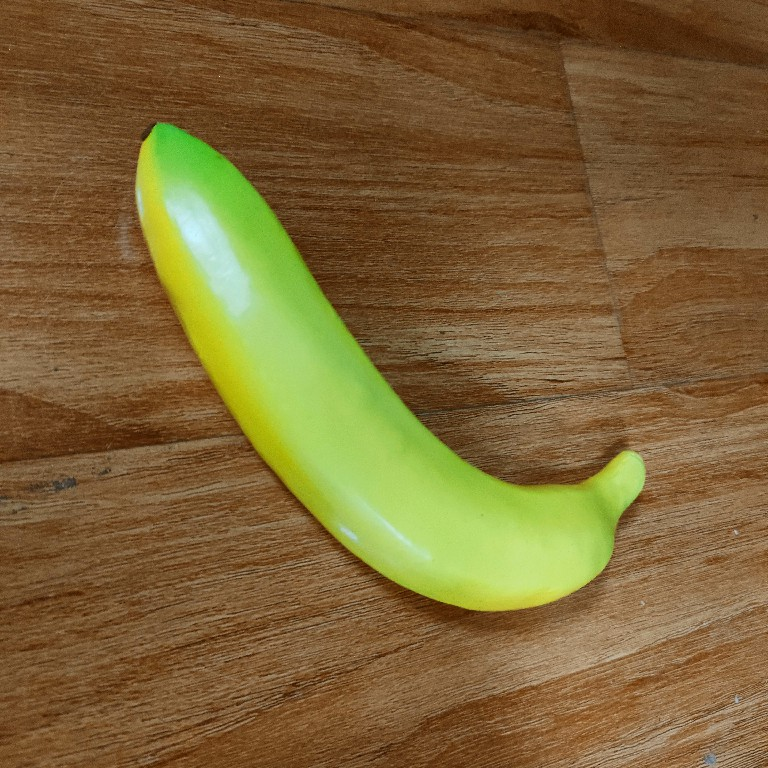fruit_banana: (114, 100, 665, 636)
